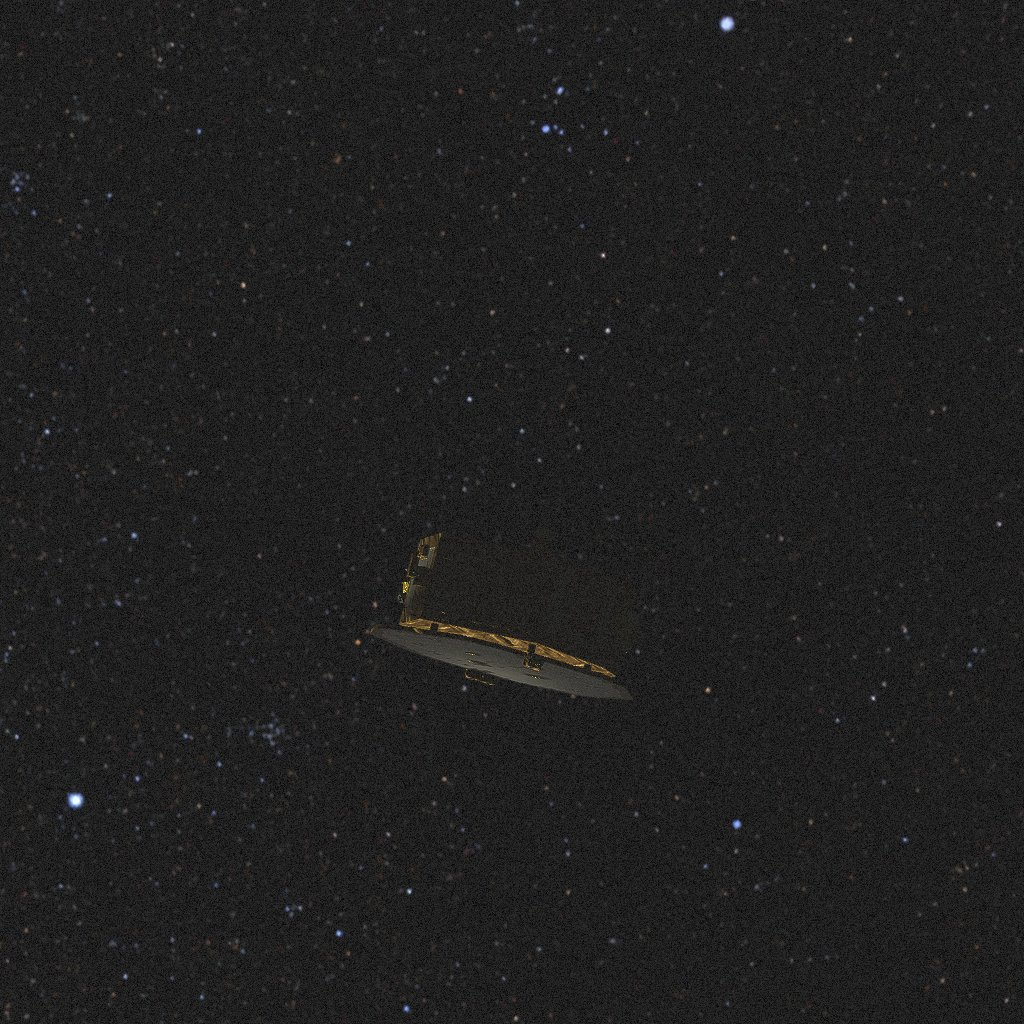lisa_pathfinder: (370, 529, 643, 700)
